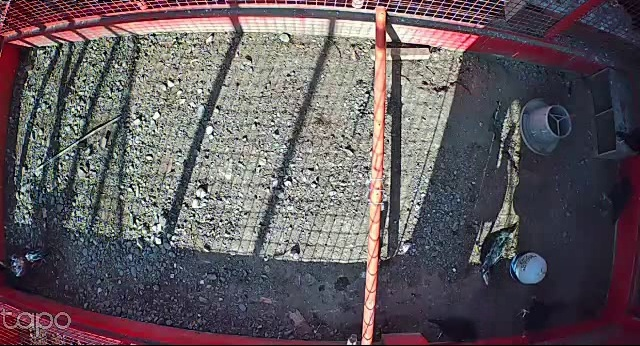Chicken: (472, 218, 519, 288), (514, 295, 563, 345), (599, 168, 635, 228), (427, 316, 477, 343)
Drinker: (509, 250, 548, 287)
Feeder: (518, 96, 574, 157)
Rooster: (0, 239, 56, 284)
